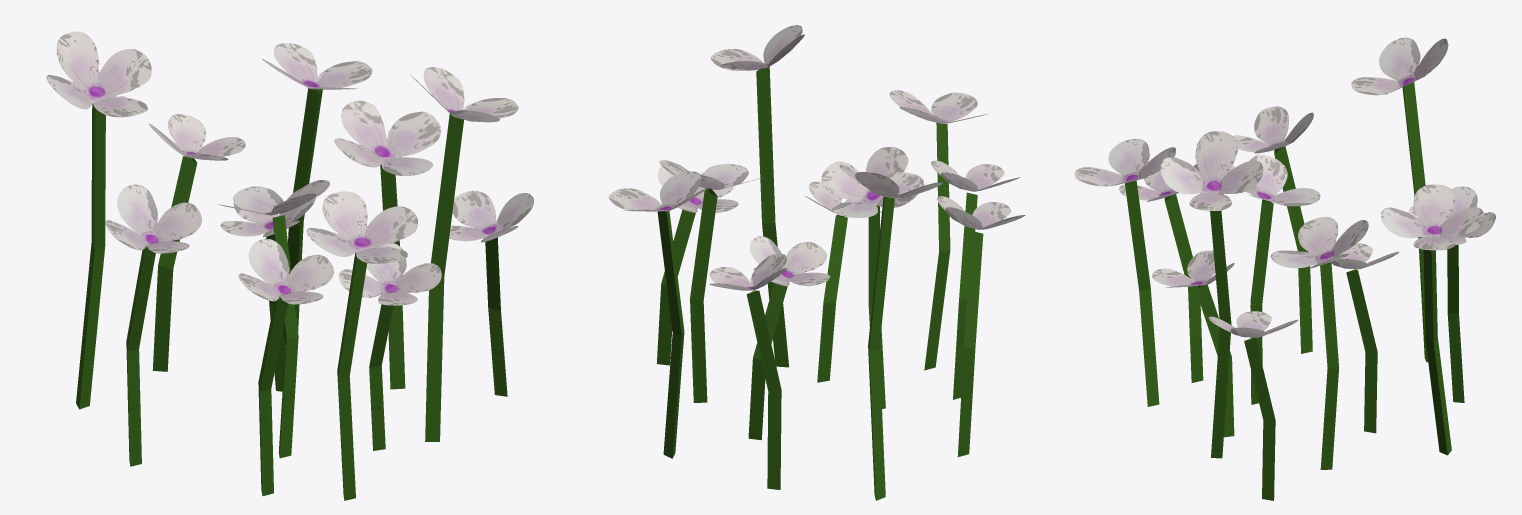
File: FlowerPink.fbx
3 renders of one model, left to right at view 1: azimuth 30°, elevation 25°; view 2: azimuth 150°, elevation 25°; view 3: azimuth 270°, elevation 25°, orthographic. The views are drawn at different scales.
Parts seen in each view (by area): view 1: Flower_Pink; view 2: Flower_Pink; view 3: Flower_Pink.
Part boxes in pixels (x1,y1,x2,y2): Flower_Pink: (46, 31, 533, 500); Flower_Pink: (608, 25, 1025, 500); Flower_Pink: (1074, 37, 1495, 500).
Bounding box in the file's own units: 0.5384 × 0.4547 × 0.5592.
